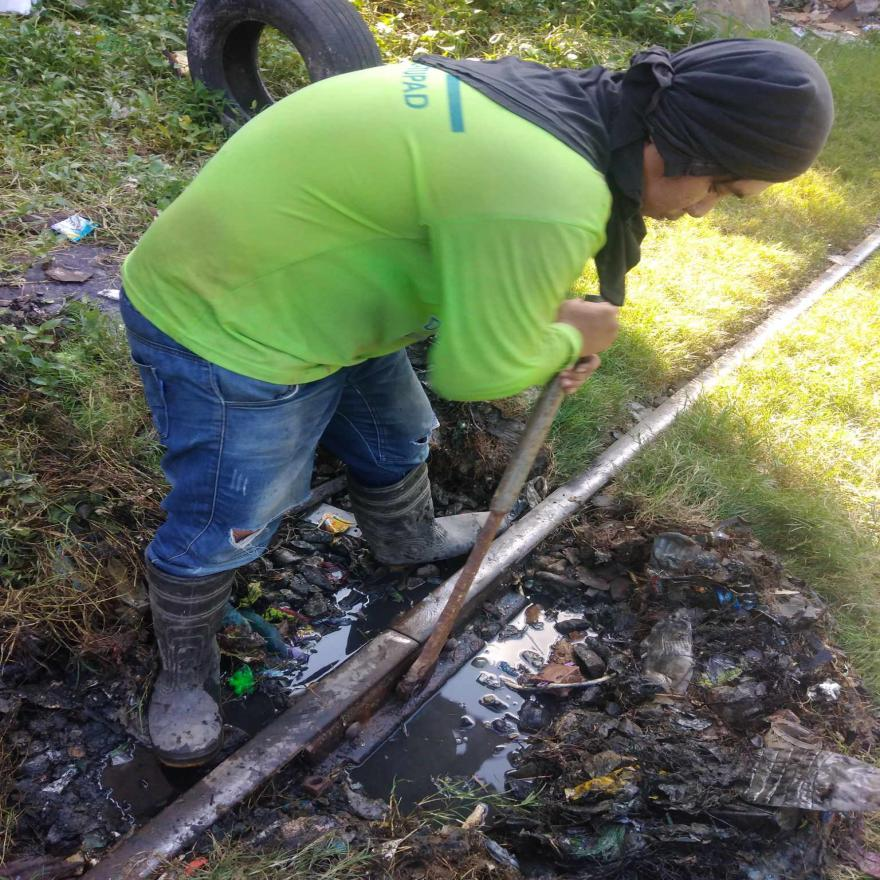railway-gap: (364, 604, 448, 671)
